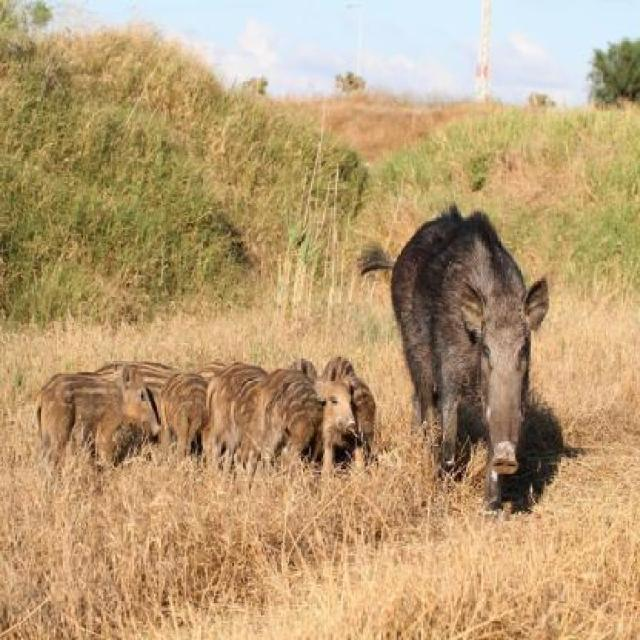wildboar: (356, 199, 552, 513), (85, 348, 381, 474), (26, 365, 162, 469), (262, 370, 370, 481)
